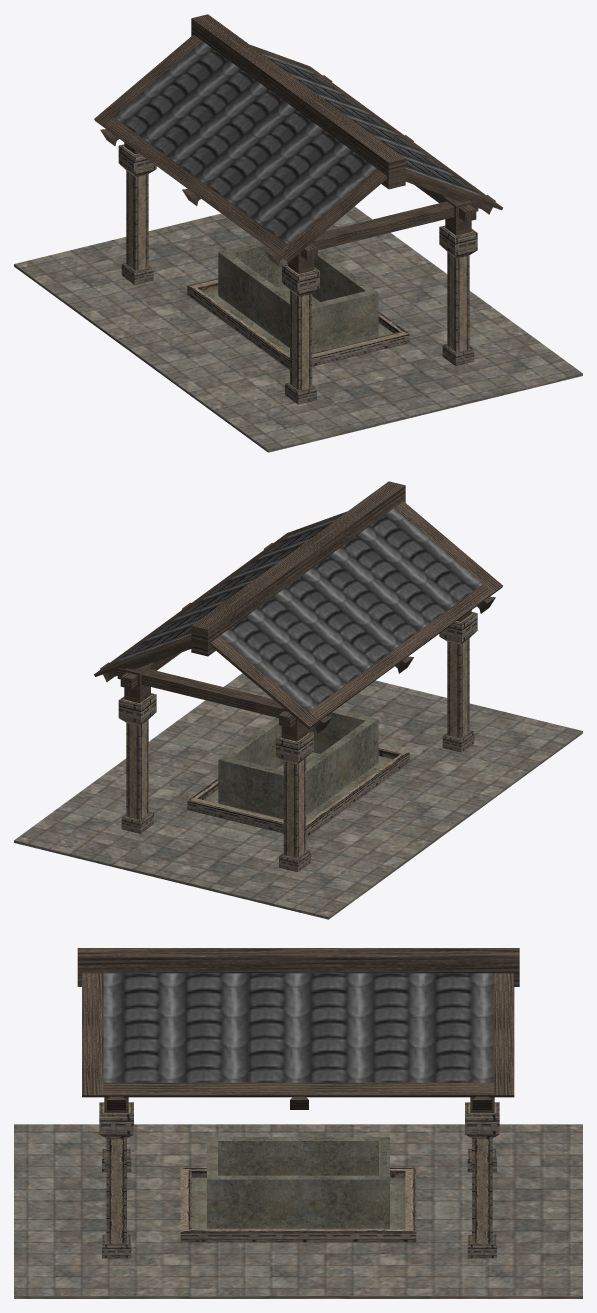
The model's file is pocojp-c.fbx.
3 views of the same model, one above another, from view 1: azimuth 30°, elevation 25°; view 2: azimuth 150°, elevation 25°; view 3: azimuth 270°, elevation 25° (orthographic). The views are drawn at different scales.
Visible parts, largest first — view 1: Cube; view 2: Cube; view 3: Cube.
Part boxes in pixels (x1,y1,x2,y2): Cube: (14,14,582,452); Cube: (14,481,582,919); Cube: (14,948,582,1298).
Bounding box in the file's own units: 4.32 × 3.05 × 6.05.
